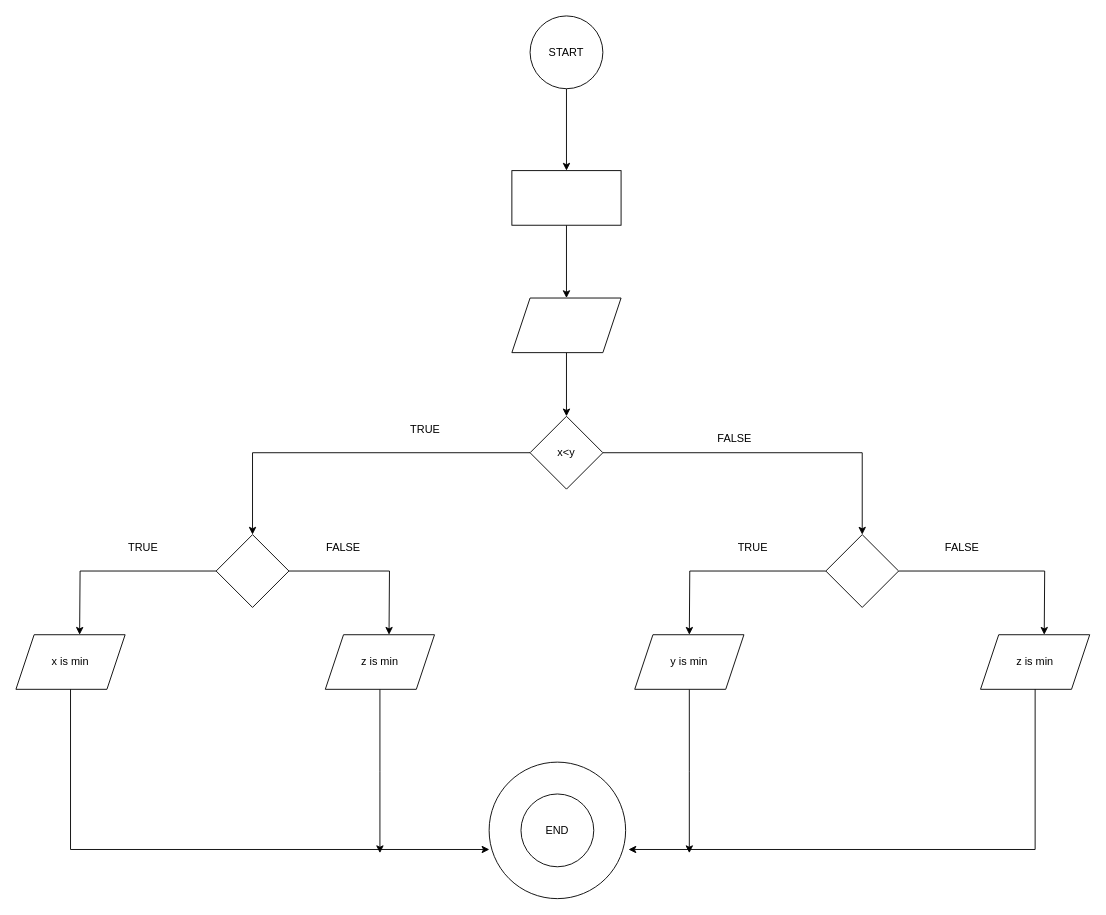
Image size: 1106x915. Some labels were removed from this diagram. Each missing label, with the centre of its shape:
"INT x, y and z" goes at point 566,197.
"Read x, y and z" goes at point 566,325.
"x<z" goes at point 252,570.
"y<z" goes at point 862,570.
